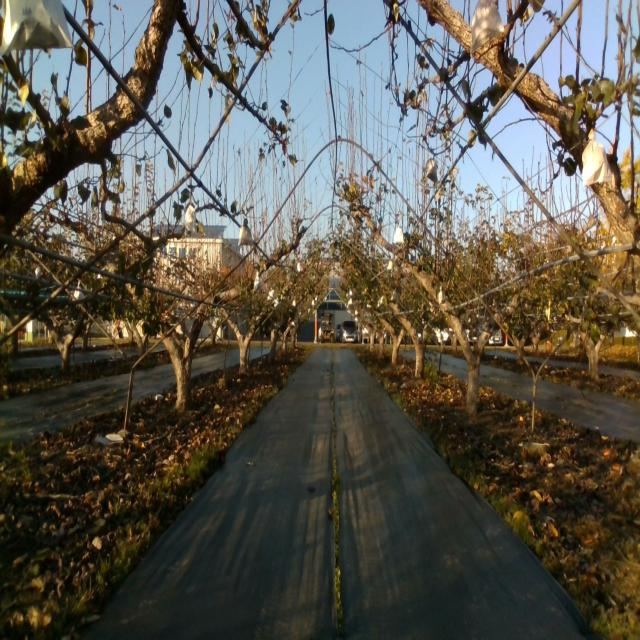pearbags: (0, 0, 74, 54), (581, 127, 614, 187), (471, 0, 506, 52), (184, 204, 196, 233), (238, 224, 253, 247), (426, 156, 438, 182)
